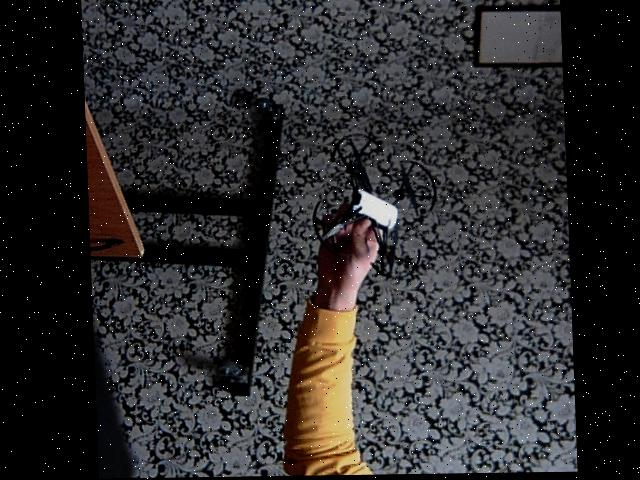drone: (298, 125, 448, 286)
